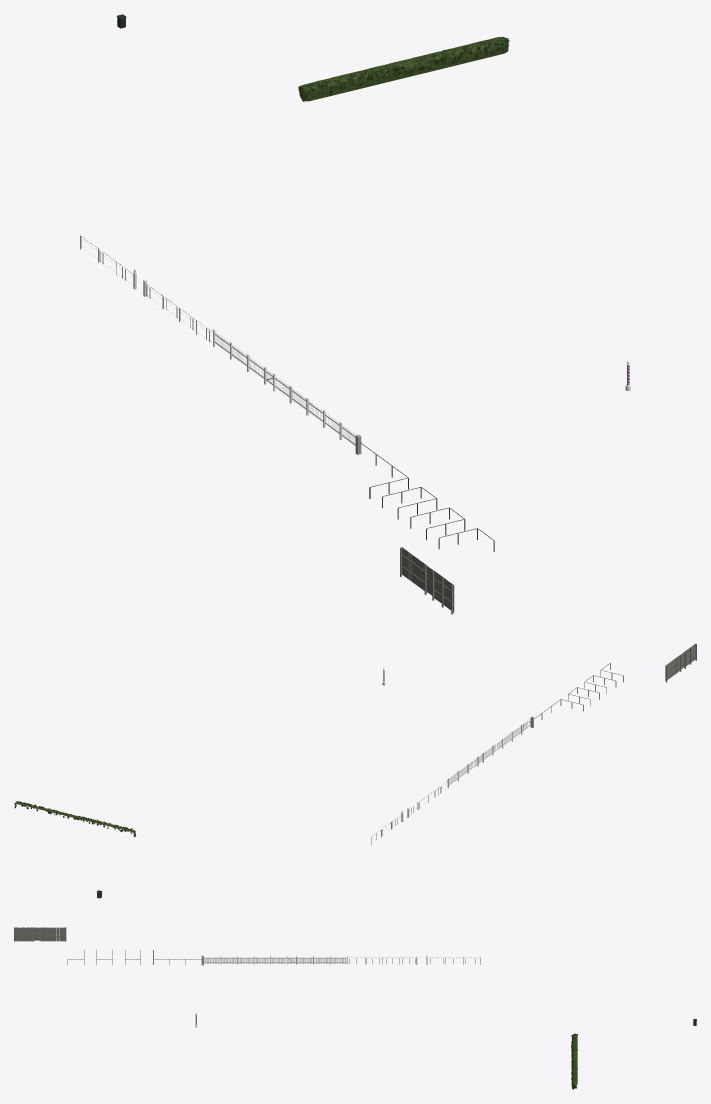
The model's file is street-details.glb.
3 views of the same model, one above another, from view 1: azimuth 30°, elevation 25°; view 2: azimuth 150°, elevation 25°; view 3: azimuth 270°, elevation 25° (orthographic). The views are drawn at different scales.
Parts seen in each view (by area): view 1: hedge-rea, fence-65-picket, fence-69-board; view 2: fence-65-picket, hedge-rea, fence-69-board; view 3: fence-65-picket, fence-69-board, hedge-rea.
Part boxes in pixels (x1,y1,x2,y2): hedge-rea: [298, 36, 509, 101]; fence-65-picket: [212, 329, 356, 446]; fence-69-board: [400, 547, 454, 614]; fence-65-picket: [447, 719, 531, 788]; hedge-rea: [14, 801, 135, 837]; fence-69-board: [665, 643, 696, 682]; fence-65-picket: [204, 956, 348, 964]; fence-69-board: [14, 927, 66, 941]; hedge-rea: [571, 1033, 577, 1089].
Size of the model in its own units: 48.02 by 2.45 by 92.
6 materials, 5 textured.
